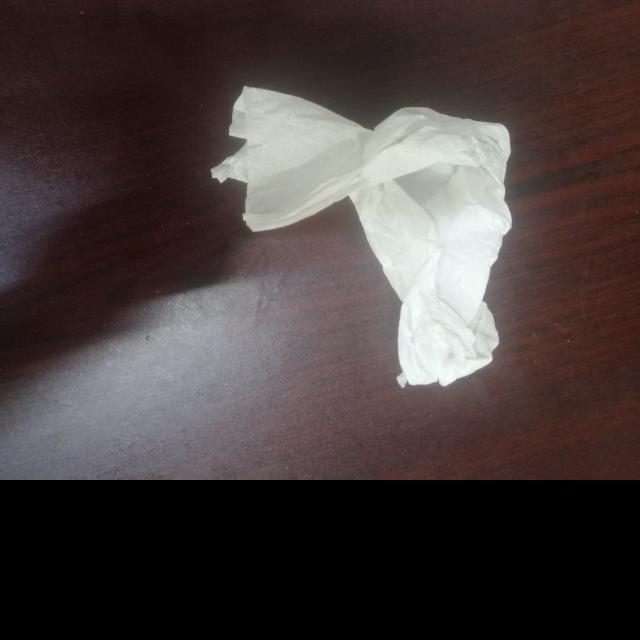kitchen paper: (211, 88, 524, 401)
